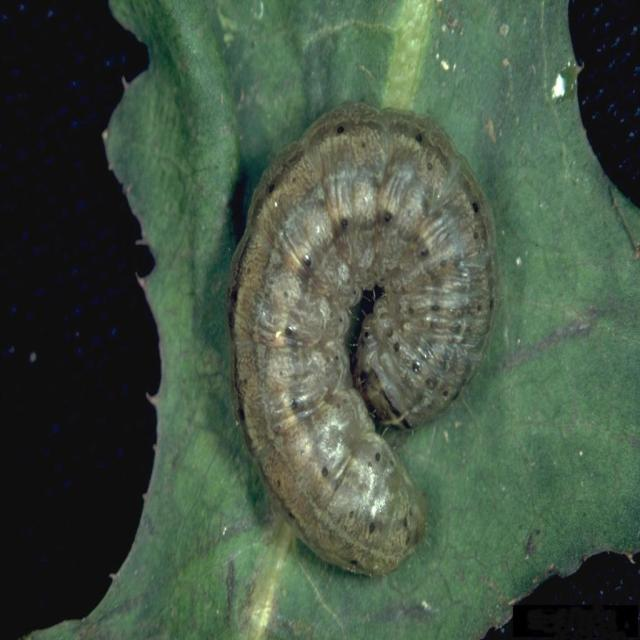Cutworm: (226, 89, 495, 585)
